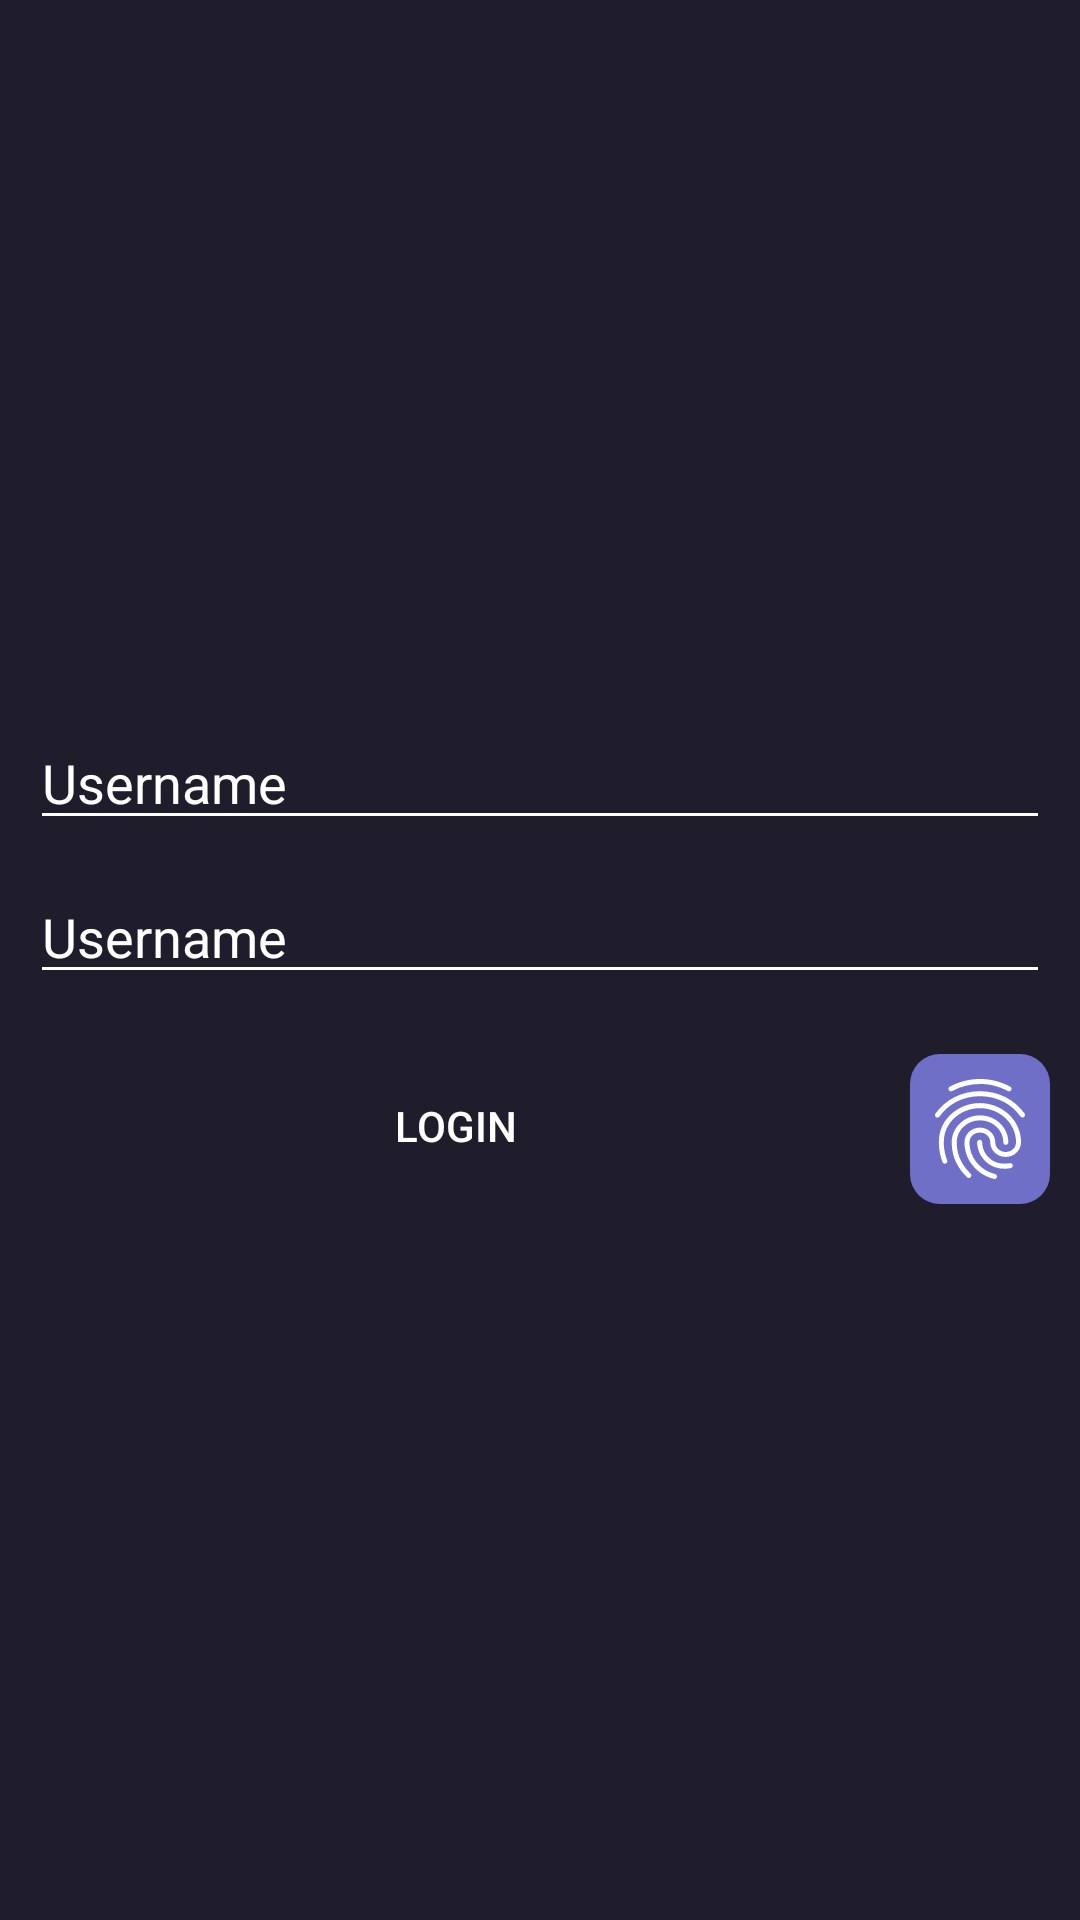

Icon click points for this 1080px x 1920px phone screenshot, format point (x, y):
finger: point (980, 1129)
